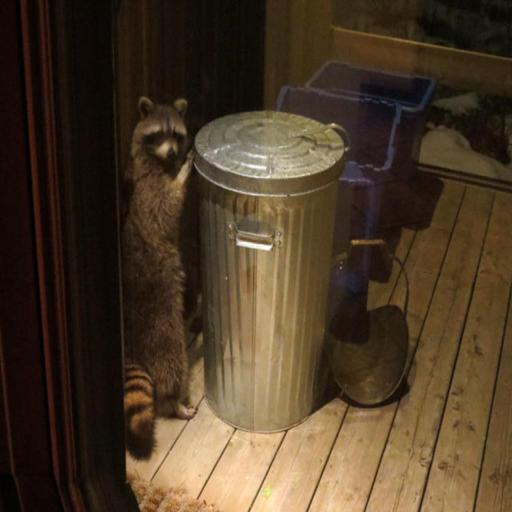trash-can: (188, 103, 350, 434)
